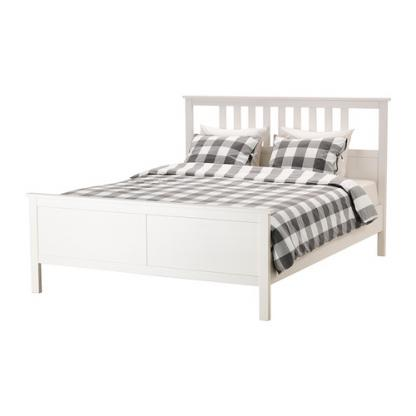Bed: (28, 93, 393, 323)
